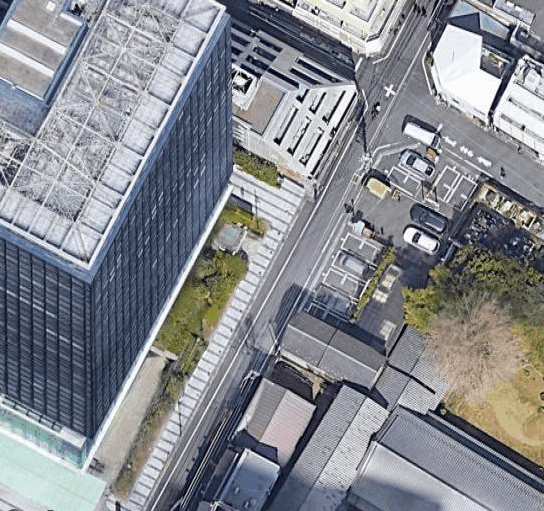facility: (0, 0, 214, 265)
rooftop: (232, 62, 287, 137)
